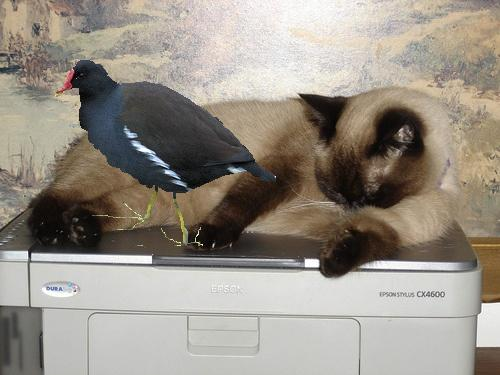tampered: (56, 61, 276, 246)
